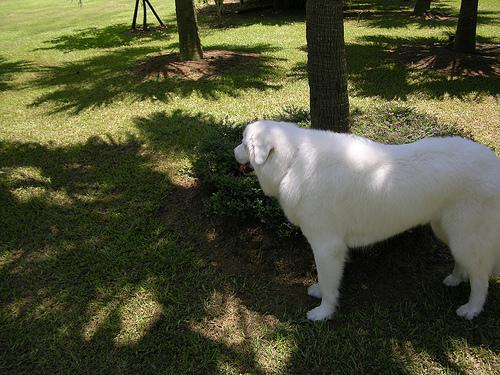Great_Pyrenees: (231, 119, 498, 321)
